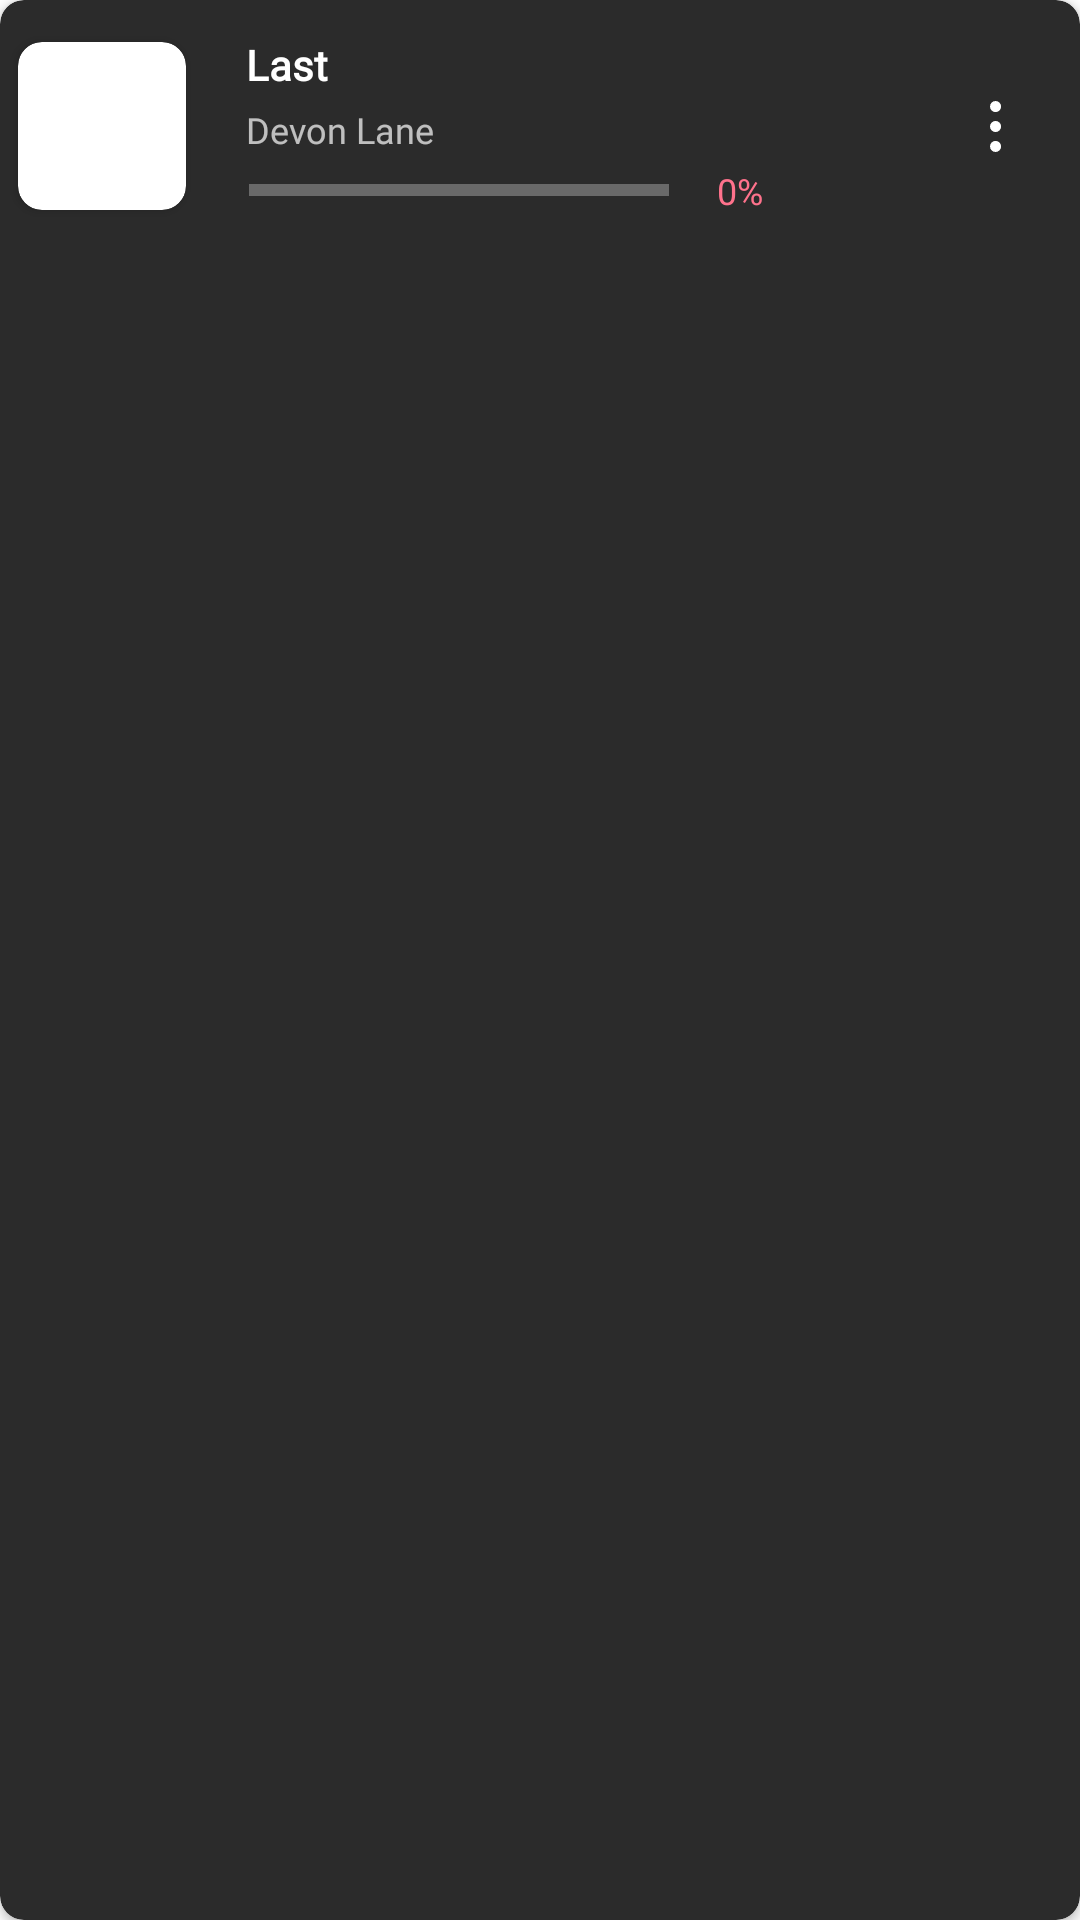

Icon click points for this 1080*1920 phone screenshot, format (x=x, y=y):
song option: (x=995, y=126)
